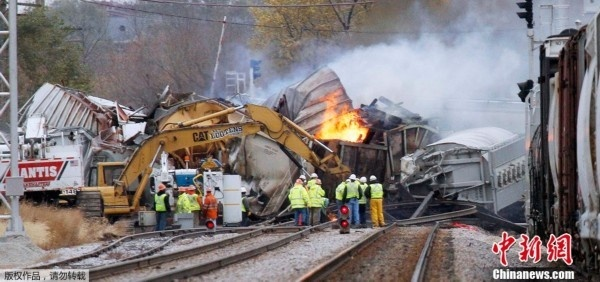fire: (314, 94, 369, 142)
